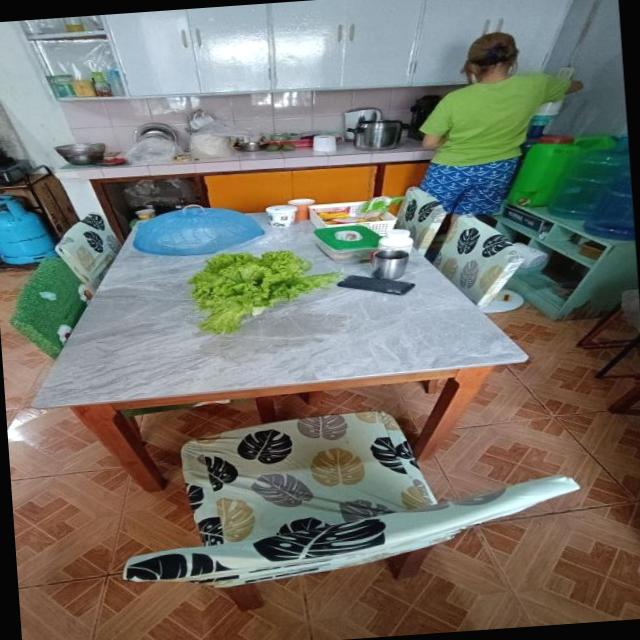Lettuce-Ready-to-Harvest: (189, 250, 339, 334)
